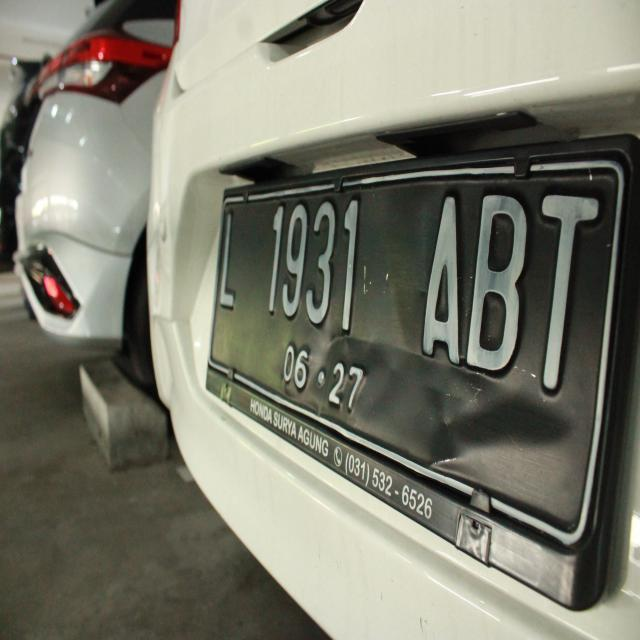1: (330, 192, 366, 341), (260, 196, 286, 320)
3: (304, 193, 337, 334)
9: (280, 196, 310, 324)
A: (410, 182, 466, 370)
B: (462, 178, 529, 388)
L: (208, 197, 247, 316)
T: (525, 185, 607, 409)
